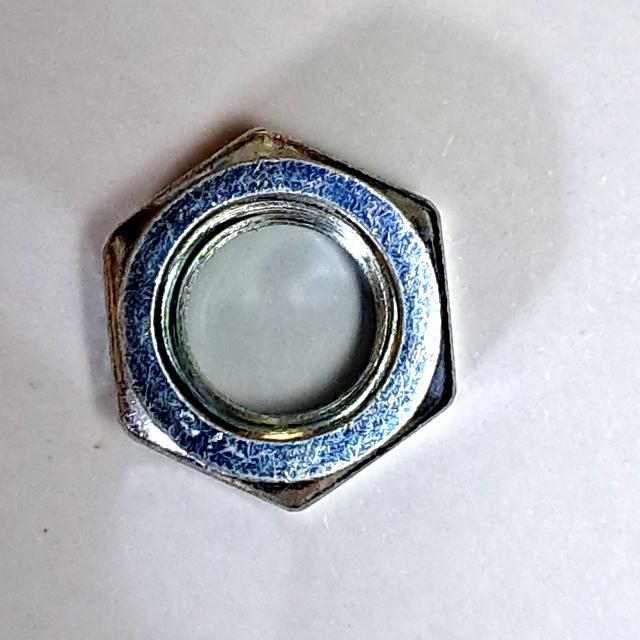Excellent: (90, 111, 473, 522)
